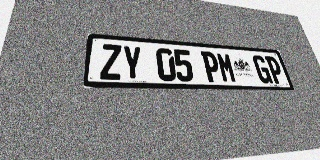0: (155, 48, 177, 81)
5: (173, 49, 195, 82)
G: (251, 55, 273, 83)
M: (216, 52, 237, 83)
P: (200, 51, 222, 82), (264, 56, 286, 84)
Y: (122, 45, 143, 81)
Z: (100, 44, 122, 80)
